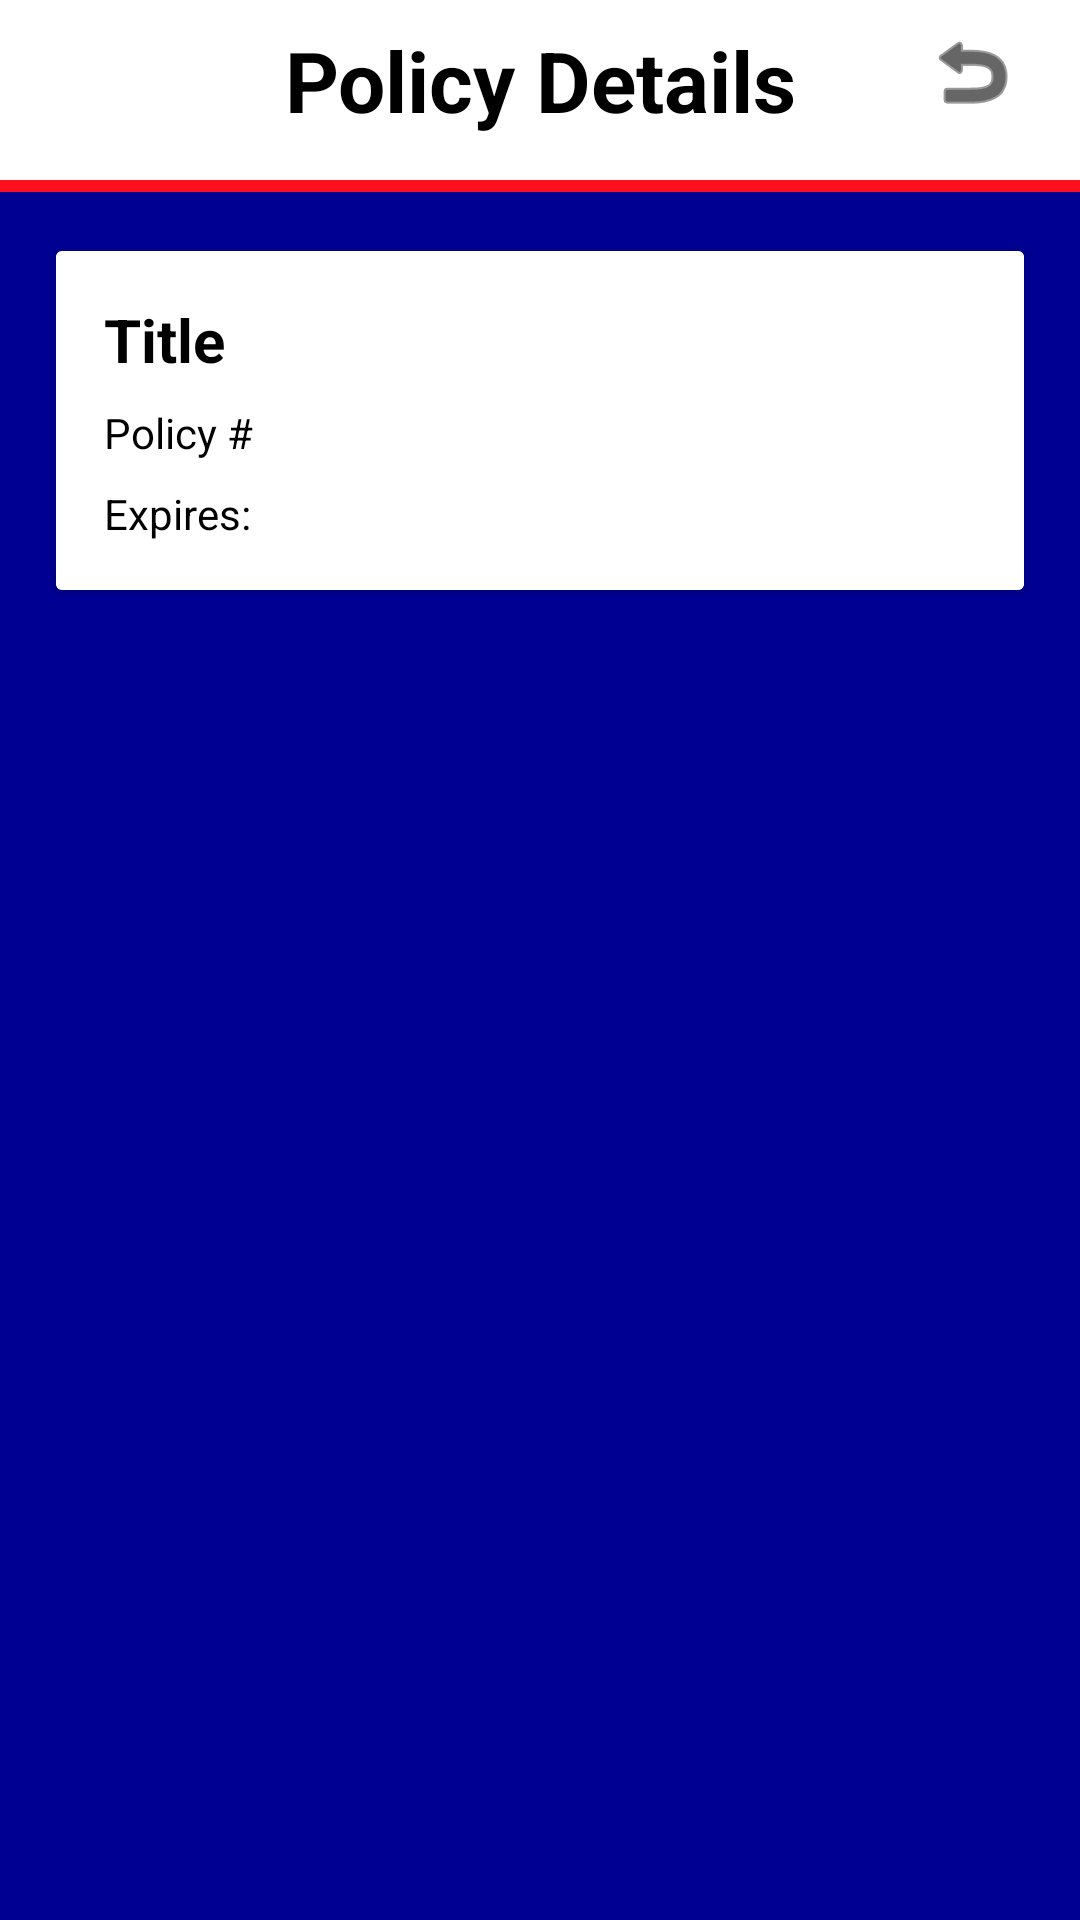

Named icons in this screenshot (1080w x 1920h) and their bounding boxes, BBox(x1, y1, x2, y2):
Return: BBox(939, 41, 1008, 104)
